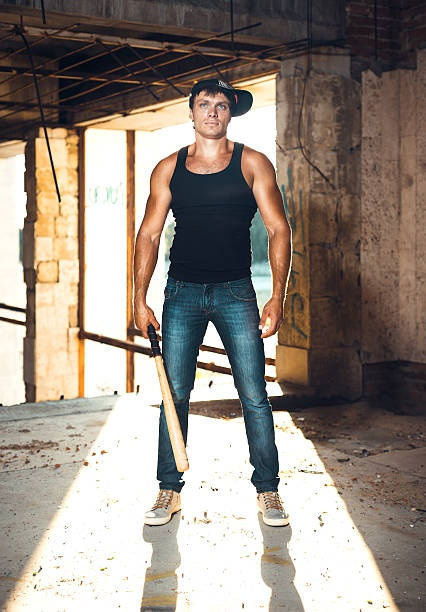bita: (143, 317, 189, 475)
